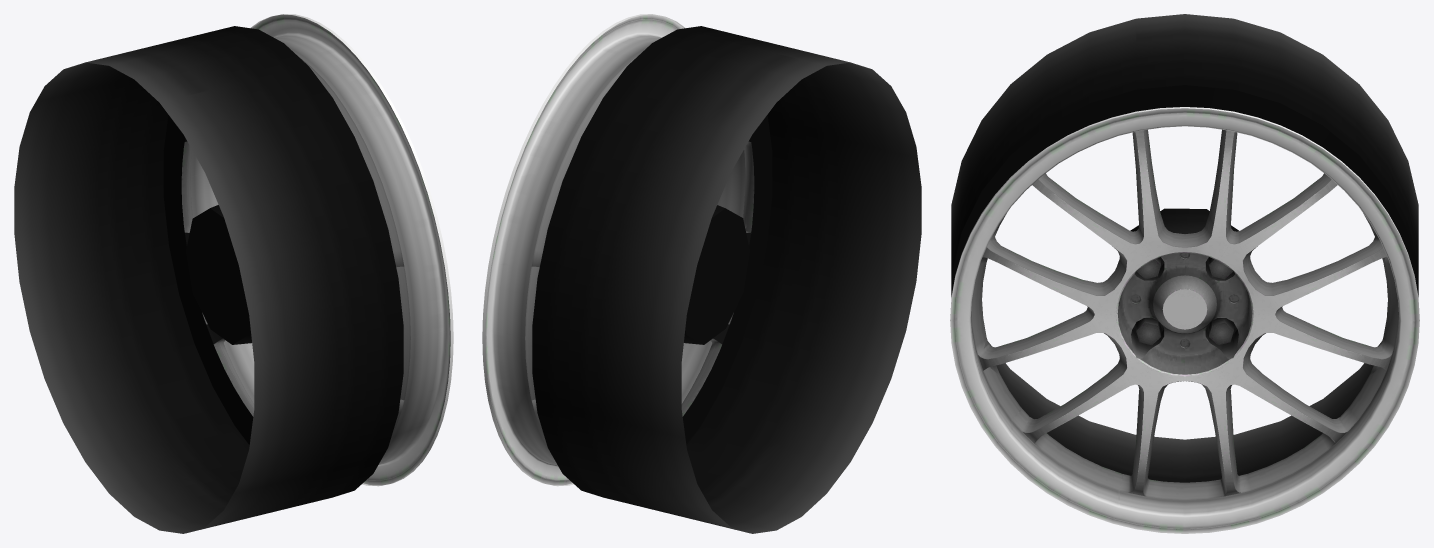
Rendered from wheel63.fbx.
3 views of the same model, side by side, from view 1: azimuth 30°, elevation 25°; view 2: azimuth 150°, elevation 25°; view 3: azimuth 270°, elevation 25° (orthographic). The views are drawn at different scales.
Visible parts, largest first — view 1: kon_daylite_wheel_wheel_inner_rim_, wheel_rim, kon_daylite_wheel_wheel_rim_; view 2: kon_daylite_wheel_wheel_inner_rim_, wheel_rim, kon_daylite_wheel_wheel_rim_; view 3: kon_daylite_wheel_wheel_rim_, kon_daylite_wheel_wheel_inner_rim_, wheel_rim.
Part boxes in pixels (x1,y1,x2,y2): kon_daylite_wheel_wheel_inner_rim_: (14,26,403,533); wheel_rim: (181,14,453,486); kon_daylite_wheel_wheel_rim_: (183,17,453,484); kon_daylite_wheel_wheel_inner_rim_: (532,26,921,533); wheel_rim: (482,14,754,486); kon_daylite_wheel_wheel_rim_: (482,14,753,485); kon_daylite_wheel_wheel_rim_: (950,107,1419,533); kon_daylite_wheel_wheel_inner_rim_: (951,14,1418,482); wheel_rim: (950,107,1419,533).
Size of the model in its own units: 0.2288 by 0.48 by 0.48.
1 material, 1 textured.
